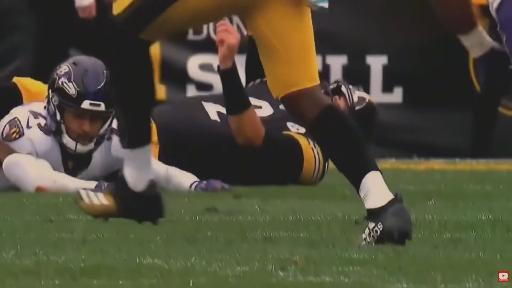Helmet: (46, 56, 114, 153), (321, 81, 377, 141)
Jersey: (114, 0, 319, 98), (153, 81, 328, 185), (0, 102, 122, 180), (488, 0, 511, 55), (10, 78, 47, 103)
Player: (118, 0, 411, 243), (28, 0, 163, 222), (154, 37, 328, 185), (0, 56, 123, 192), (432, 0, 510, 157), (0, 77, 47, 118)
